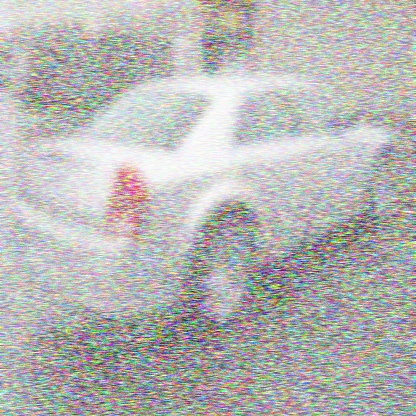Vehicle: (9, 70, 396, 336)
